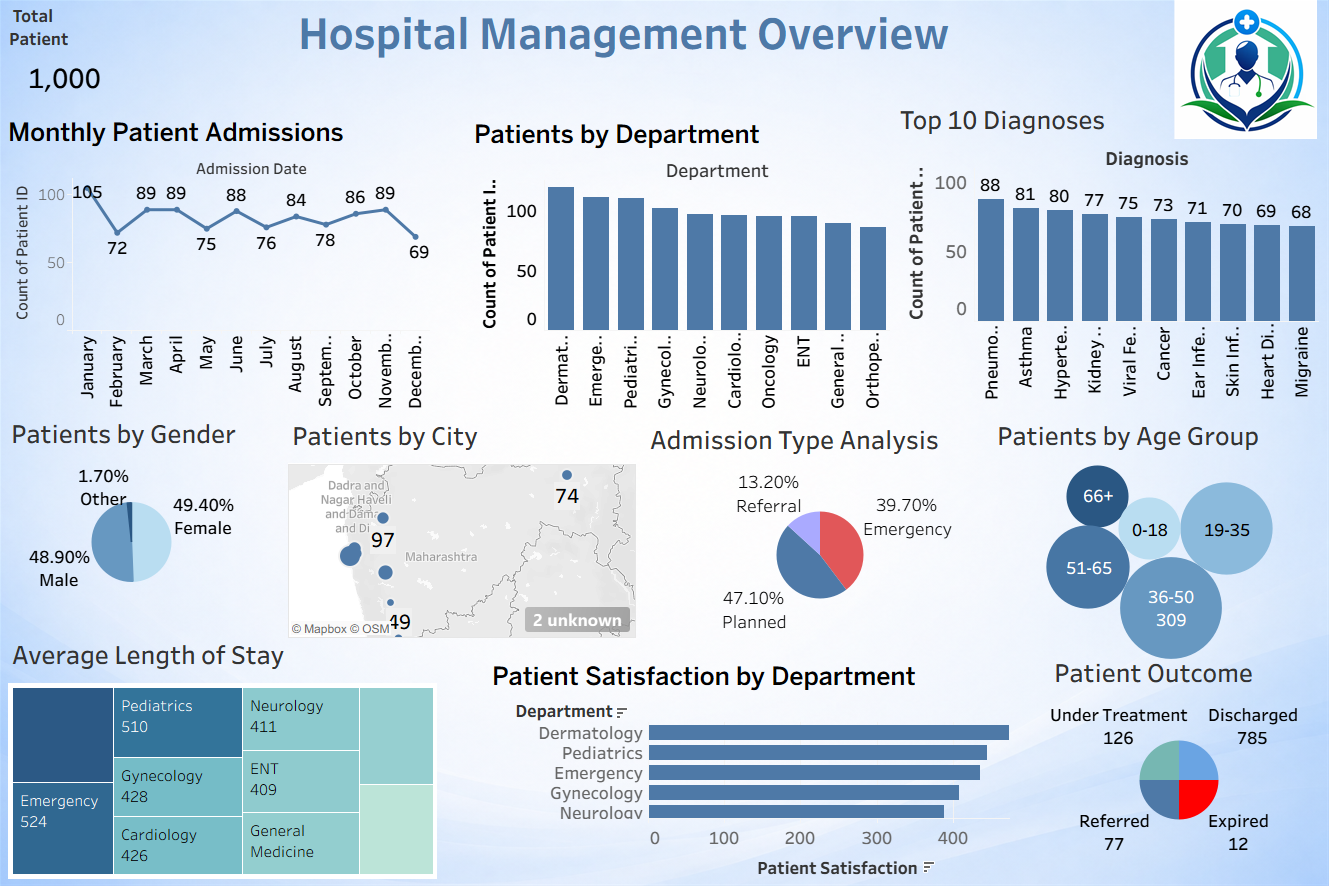

The dashboard page shown, as its layout file describes it:
{"tool":"tableau","page":{"name":"Dashboard 1","canvas":[1357,911],"ordinal":0},"visuals":[{"type":"image","param":"C:/Users/Mayuresh/Downloads/ChatGPT Image Aug 29, 2026, 10_22_58 AM.png","box":[8,8,1341,895]},{"type":"image","param":"C:/Users/Mayuresh/OneDrive/Pictures/Screenshots/Screenshot 2026-08-29 154806.png","box":[1165,12,189,140]},{"type":"worksheet","title":"Total Patient Count","mark":"Automatic","box":[19,13,287,94]},{"type":"worksheet","title":"Top 10 Diagnoses","mark":"Automatic","rows":["Patient_ID"],"cols":["Diagnosis"],"box":[910,111,423,303]},{"type":"worksheet","title":"Monthly Patient Admissions","mark":"Line","rows":["Patient_ID"],"cols":["Admission_Date"],"box":[18,126,426,297]},{"type":"worksheet","title":"Patients by Department","mark":"Bar","rows":["Patient_ID"],"cols":["Department"],"box":[484,128,420,295]},{"type":"worksheet","title":"Patients by Gender","mark":"Pie","box":[21,425,249,225]},{"type":"worksheet","title":"Patients by City","mark":"Automatic","box":[302,427,348,224]},{"type":"worksheet","title":"Patients by Age Group","mark":"Circle","box":[1007,427,333,245]},{"type":"worksheet","title":"Admission Type Analysis","mark":"Pie","box":[660,431,348,224]},{"type":"worksheet","title":"Average Length of Stay","mark":"Automatic","box":[22,646,429,246]},{"type":"worksheet","title":"Patient Outcome","mark":"Pie","box":[1064,664,258,208]},{"type":"worksheet","title":"Patient Satisfaction by Department","mark":"Automatic","rows":["Department"],"cols":["Patient_Satisfaction"],"box":[502,670,522,229]}]}

Visuals, with their boxes in screenshot pixels (x1, y1, x2, y2), scaled from the page's 1357x911 canvas onto the 1330x886 screenshot:
image: l=8, t=8, r=1322, b=878
image: l=1142, t=12, r=1327, b=148
"Total Patient Count" worksheet: l=19, t=13, r=300, b=104
"Top 10 Diagnoses" worksheet: l=892, t=108, r=1306, b=403
"Monthly Patient Admissions" worksheet (Line marks): l=18, t=123, r=435, b=411
"Patients by Department" worksheet (Bar marks): l=474, t=124, r=886, b=411
"Patients by Gender" worksheet (Pie marks): l=21, t=413, r=265, b=632
"Patients by City" worksheet: l=296, t=415, r=637, b=633
"Patients by Age Group" worksheet (Circle marks): l=987, t=415, r=1313, b=654
"Admission Type Analysis" worksheet (Pie marks): l=647, t=419, r=988, b=637
"Average Length of Stay" worksheet: l=22, t=628, r=442, b=868
"Patient Outcome" worksheet (Pie marks): l=1043, t=646, r=1296, b=848
"Patient Satisfaction by Department" worksheet: l=492, t=652, r=1004, b=874
